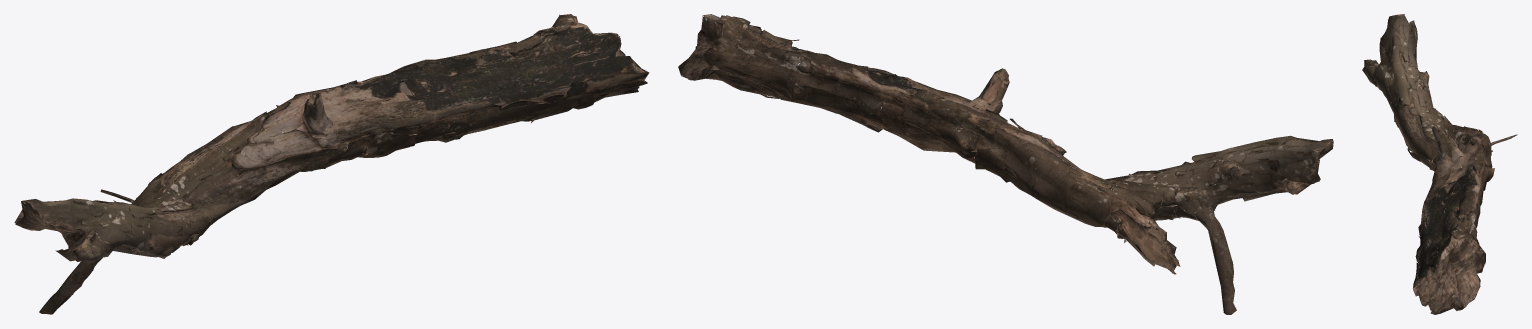
File: kf_dead_trunk_b.glb
The picture shows the model from 3 angles, left to right: view 1: azimuth 30°, elevation 25°; view 2: azimuth 150°, elevation 25°; view 3: azimuth 270°, elevation 25°; orthographic projection. The views are drawn at different scales.
Parts seen in each view (by area): view 1: dead_tree_trunk_02; view 2: dead_tree_trunk_02; view 3: dead_tree_trunk_02.
Part boxes in pixels (left/top/right/bottom): dead_tree_trunk_02: left=14, top=14, right=649, bottom=314; dead_tree_trunk_02: left=678, top=14, right=1333, bottom=314; dead_tree_trunk_02: left=1362, top=14, right=1517, bottom=314.
Size of what is drawn, in the model's own units: 4.05 by 1.06 by 1.05.
1 material, 1 textured.
